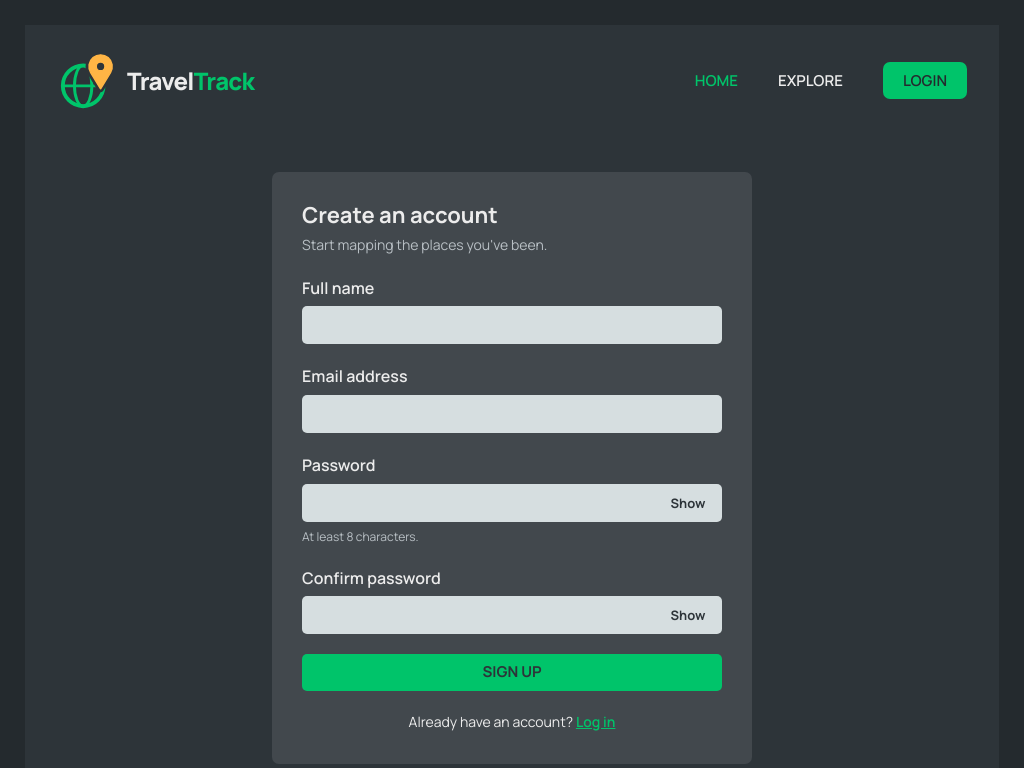
Test: Sign up form › explains an already-registered email with a link to log in
The image size is (1024, 768).
Type "Ada" into the field labelled "Full name".
click(512, 326); type("Ada")  # box [302, 306, 722, 344]
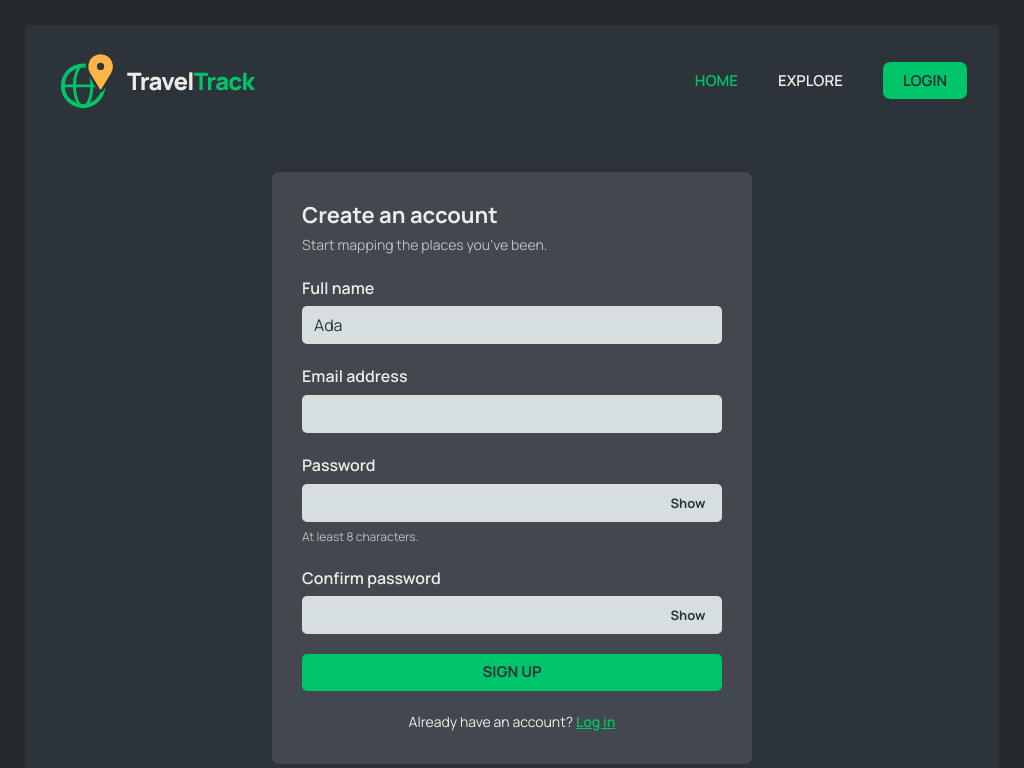
Type "ada@example.com" into the field labelled "Email address".
click(512, 414); type("ada@example.com")  # box [302, 395, 722, 433]
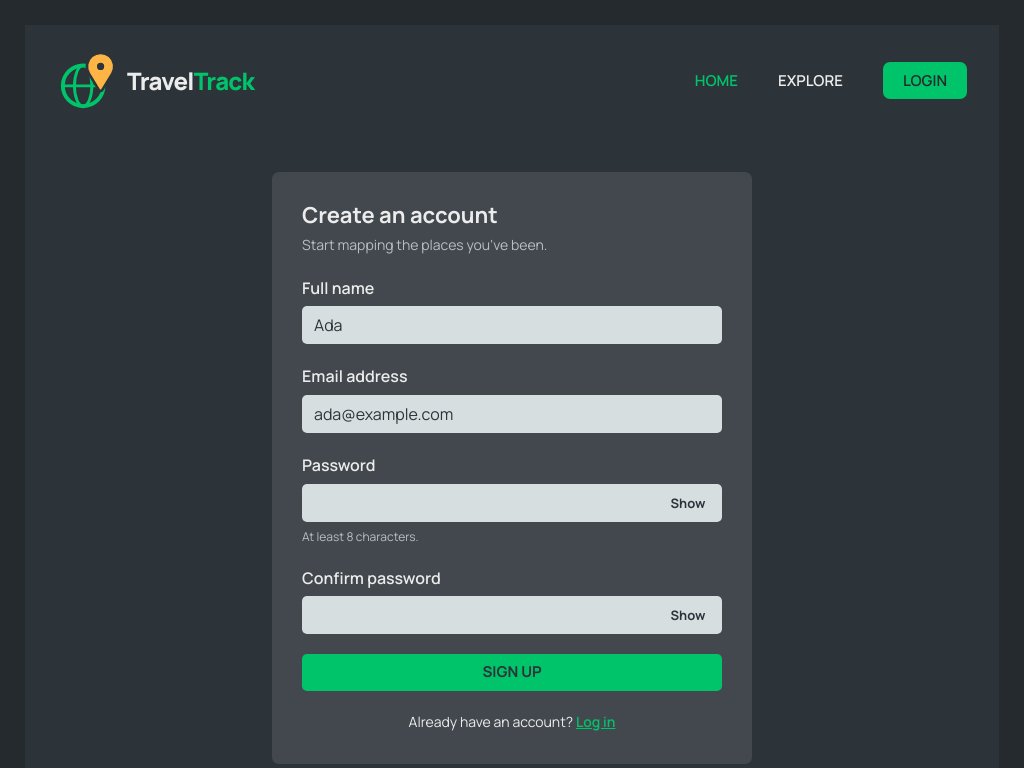
Type "longenough" into the password field labelled "Password".
click(512, 503); type("longenough")  # box [302, 484, 722, 522]
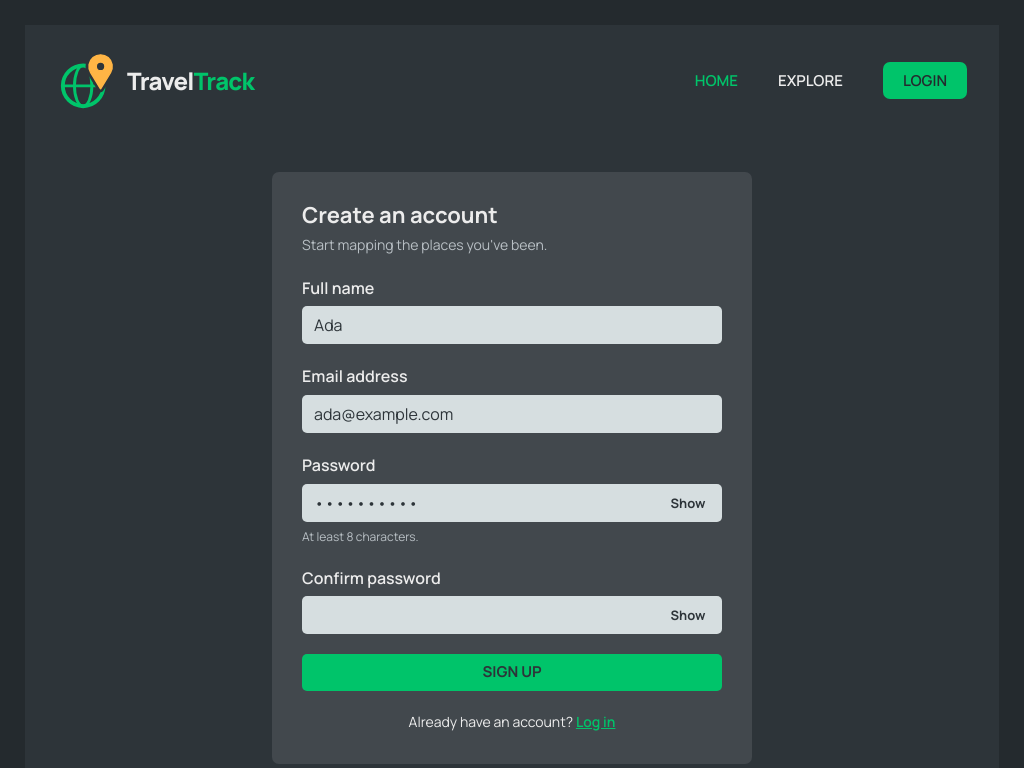
Type "longenough" into the password field labelled "Confirm password".
click(512, 616); type("longenough")  # box [302, 596, 722, 634]
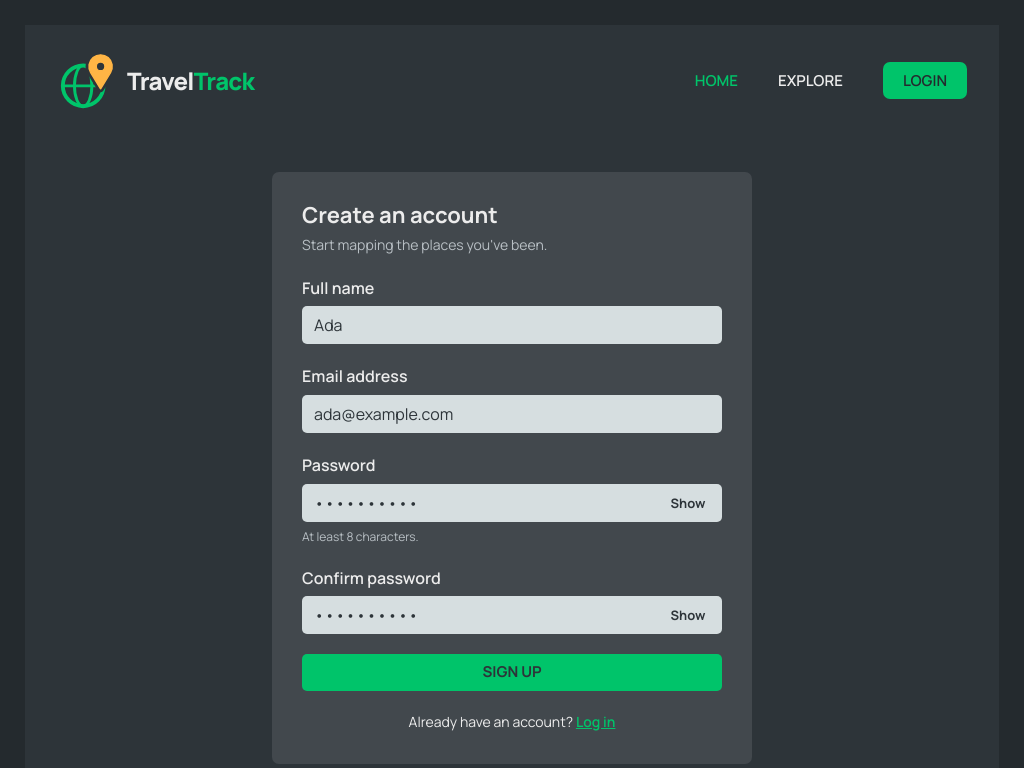
Click the button "Sign up".
click(512, 673)  # box [302, 654, 722, 691]
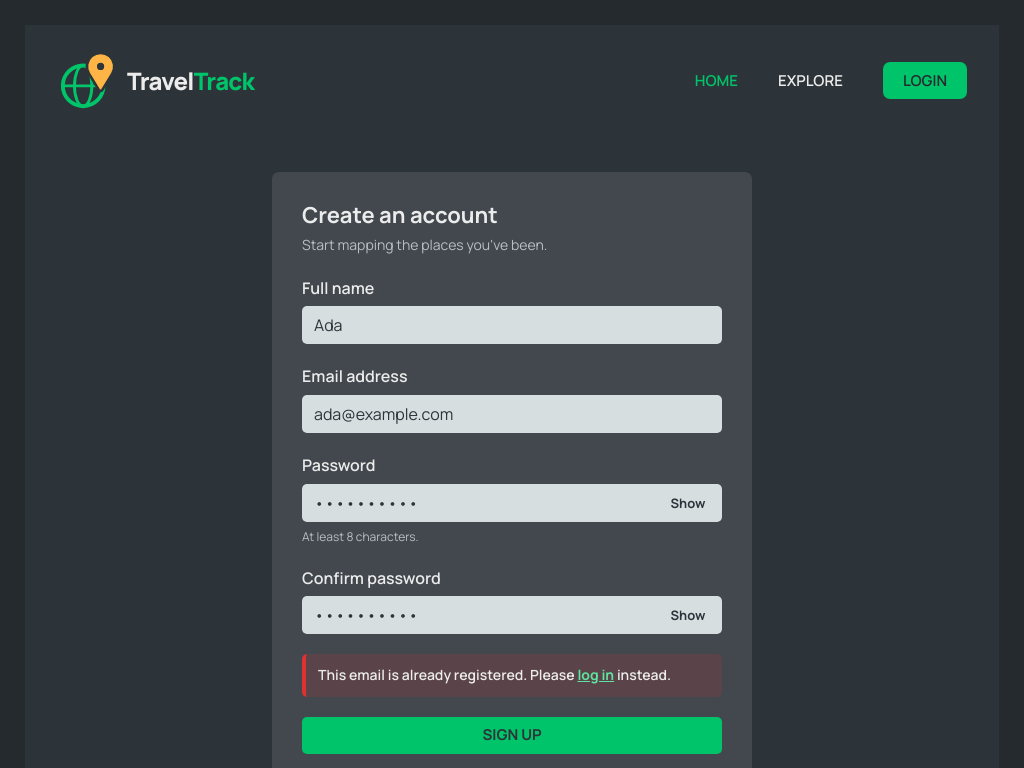
expect the message reads "This email is already registered. Please log in instead.": met, box [318, 664, 710, 687]
expect the link to "/login" is shown: met, box [577, 666, 614, 684]
